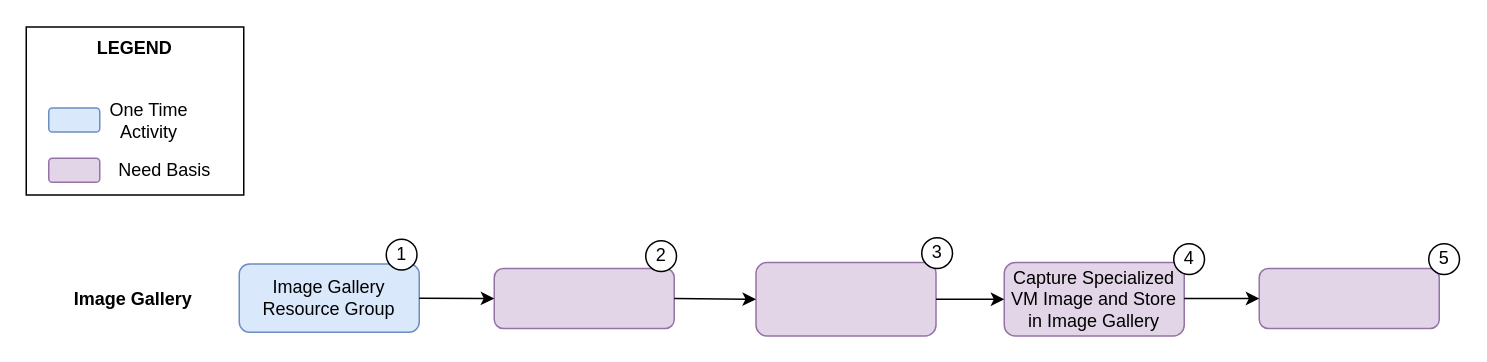
Image size: 1487x362. Some labels were removed from this diagram. The shapes that lost their labels are listed below. From the top down, each one's centre as x and y in pixels, then its label:
At point (583, 297): "Spin VM".
At point (845, 298): "Customize & Install software on VM Manually".
At point (1348, 297): "Delete VM".
